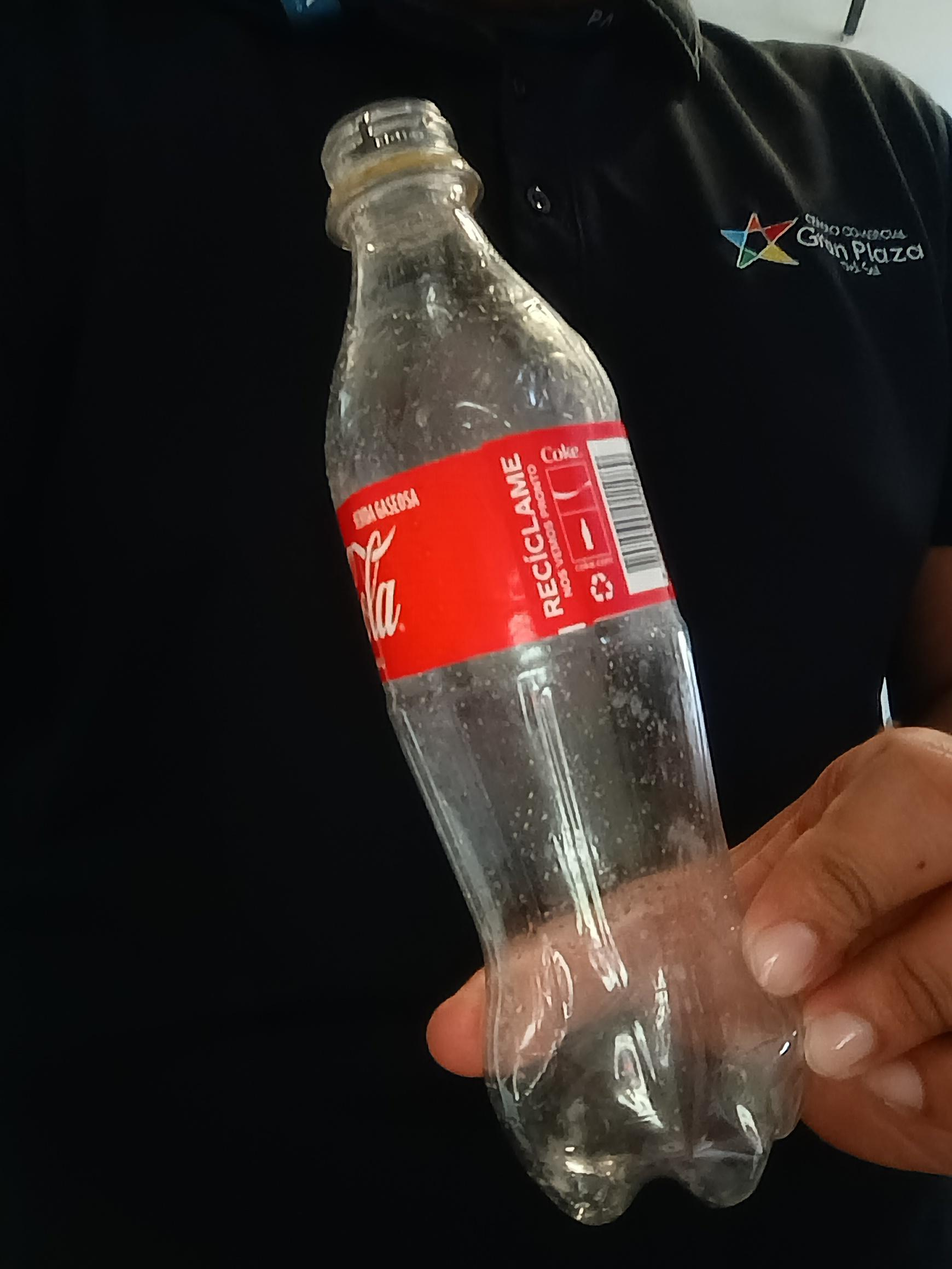Plastico: (320, 99, 806, 1227)
